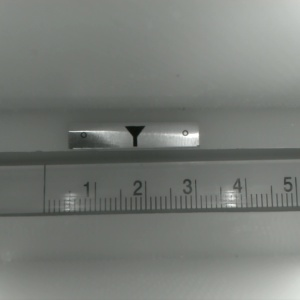1: (83, 181, 90, 196)
2: (132, 179, 142, 195)
3: (181, 179, 191, 194)
4: (231, 179, 240, 193)
5: (283, 176, 293, 192)
finger: (123, 126, 145, 148)
